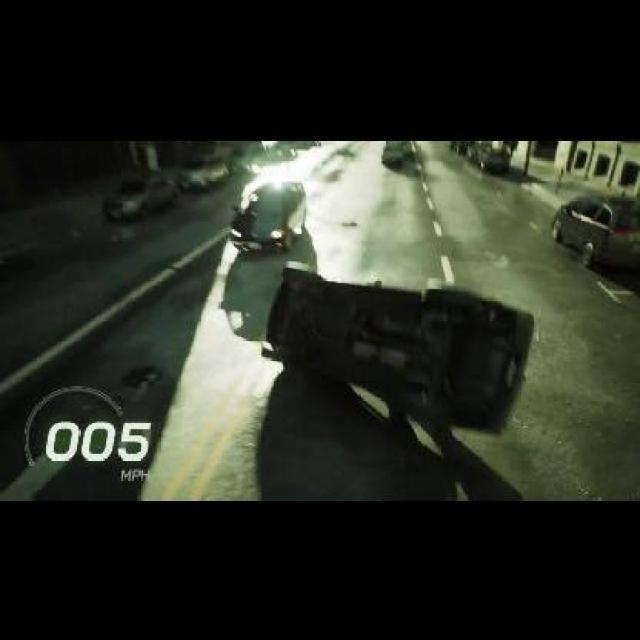accident: (242, 265, 542, 440)
